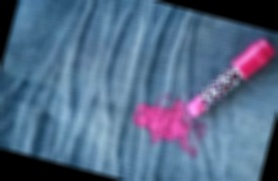lipstick: (130, 91, 215, 152), (167, 129, 204, 160)
